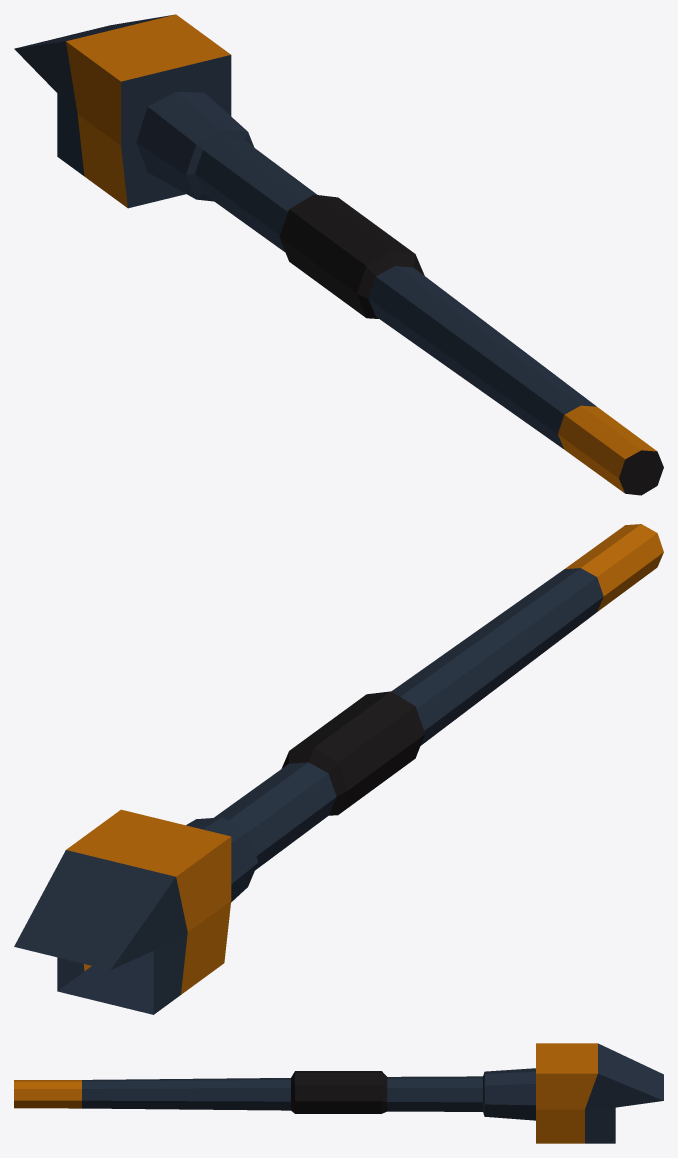
File: lav_gun.fbx
The picture shows the model from 3 angles, top to bottom: view 1: azimuth 30°, elevation 25°; view 2: azimuth 150°, elevation 25°; view 3: azimuth 270°, elevation 25°; orthographic projection. The views are drawn at different scales.
Parts seen in each view (by area): view 1: Gun; view 2: Gun; view 3: Gun.
Part boxes in pixels (x1,y1,x2,y2): Gun: [14, 14, 663, 495]; Gun: [14, 524, 663, 1014]; Gun: [14, 1043, 663, 1143].
Bounding box in the file's own units: 46.25 × 51.48 × 421.
